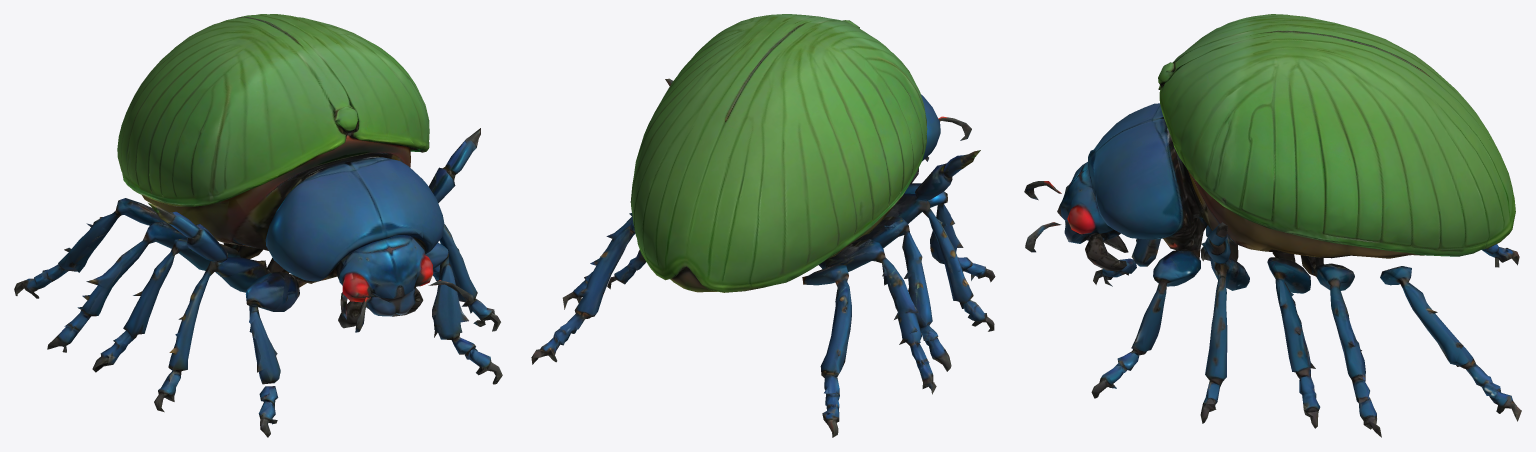
Rendered from monster_18.glb.
3 views of the same model, side by side, from view 1: azimuth 30°, elevation 25°; view 2: azimuth 150°, elevation 25°; view 3: azimuth 270°, elevation 25° (orthographic). The views are drawn at different scales.
Parts seen in each view (by area): view 1: Dino_Beetle_0709134248_texture; view 2: Dino_Beetle_0709134248_texture; view 3: Dino_Beetle_0709134248_texture.
Part boxes in pixels (box(x1,y1,x2,y2)): Dino_Beetle_0709134248_texture: box(14, 14, 502, 437); Dino_Beetle_0709134248_texture: box(531, 14, 995, 437); Dino_Beetle_0709134248_texture: box(1024, 14, 1521, 437).
Bounding box in the file's own units: 1.84 × 1.38 × 2.
1 material, 1 textured.
